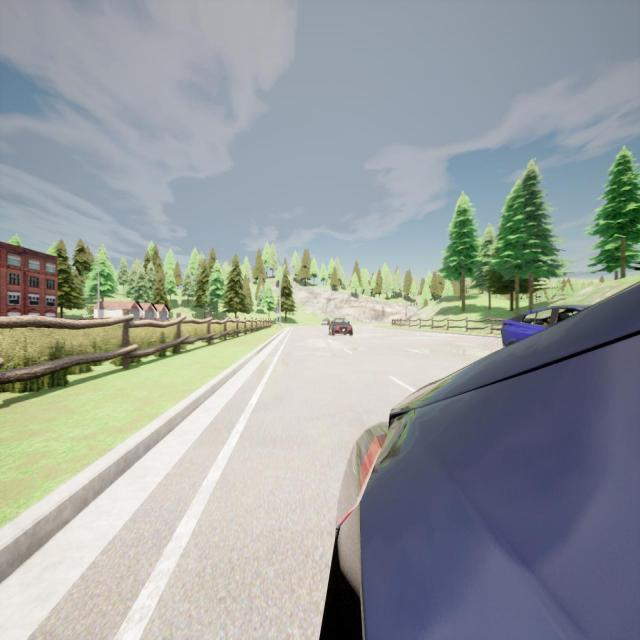Traffic_Signs: (275, 308, 279, 313)
Vehicle: (322, 283, 640, 638), (502, 305, 596, 348), (329, 318, 353, 336), (321, 318, 331, 325)
